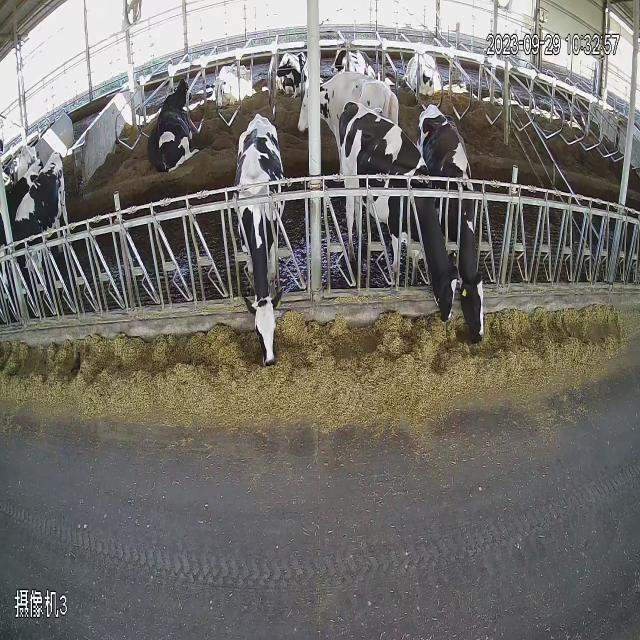feeding: (339, 98, 456, 433), (411, 80, 524, 376), (231, 90, 297, 393)
lying down: (148, 43, 200, 236)
standing: (2, 128, 92, 300), (292, 68, 416, 160)
